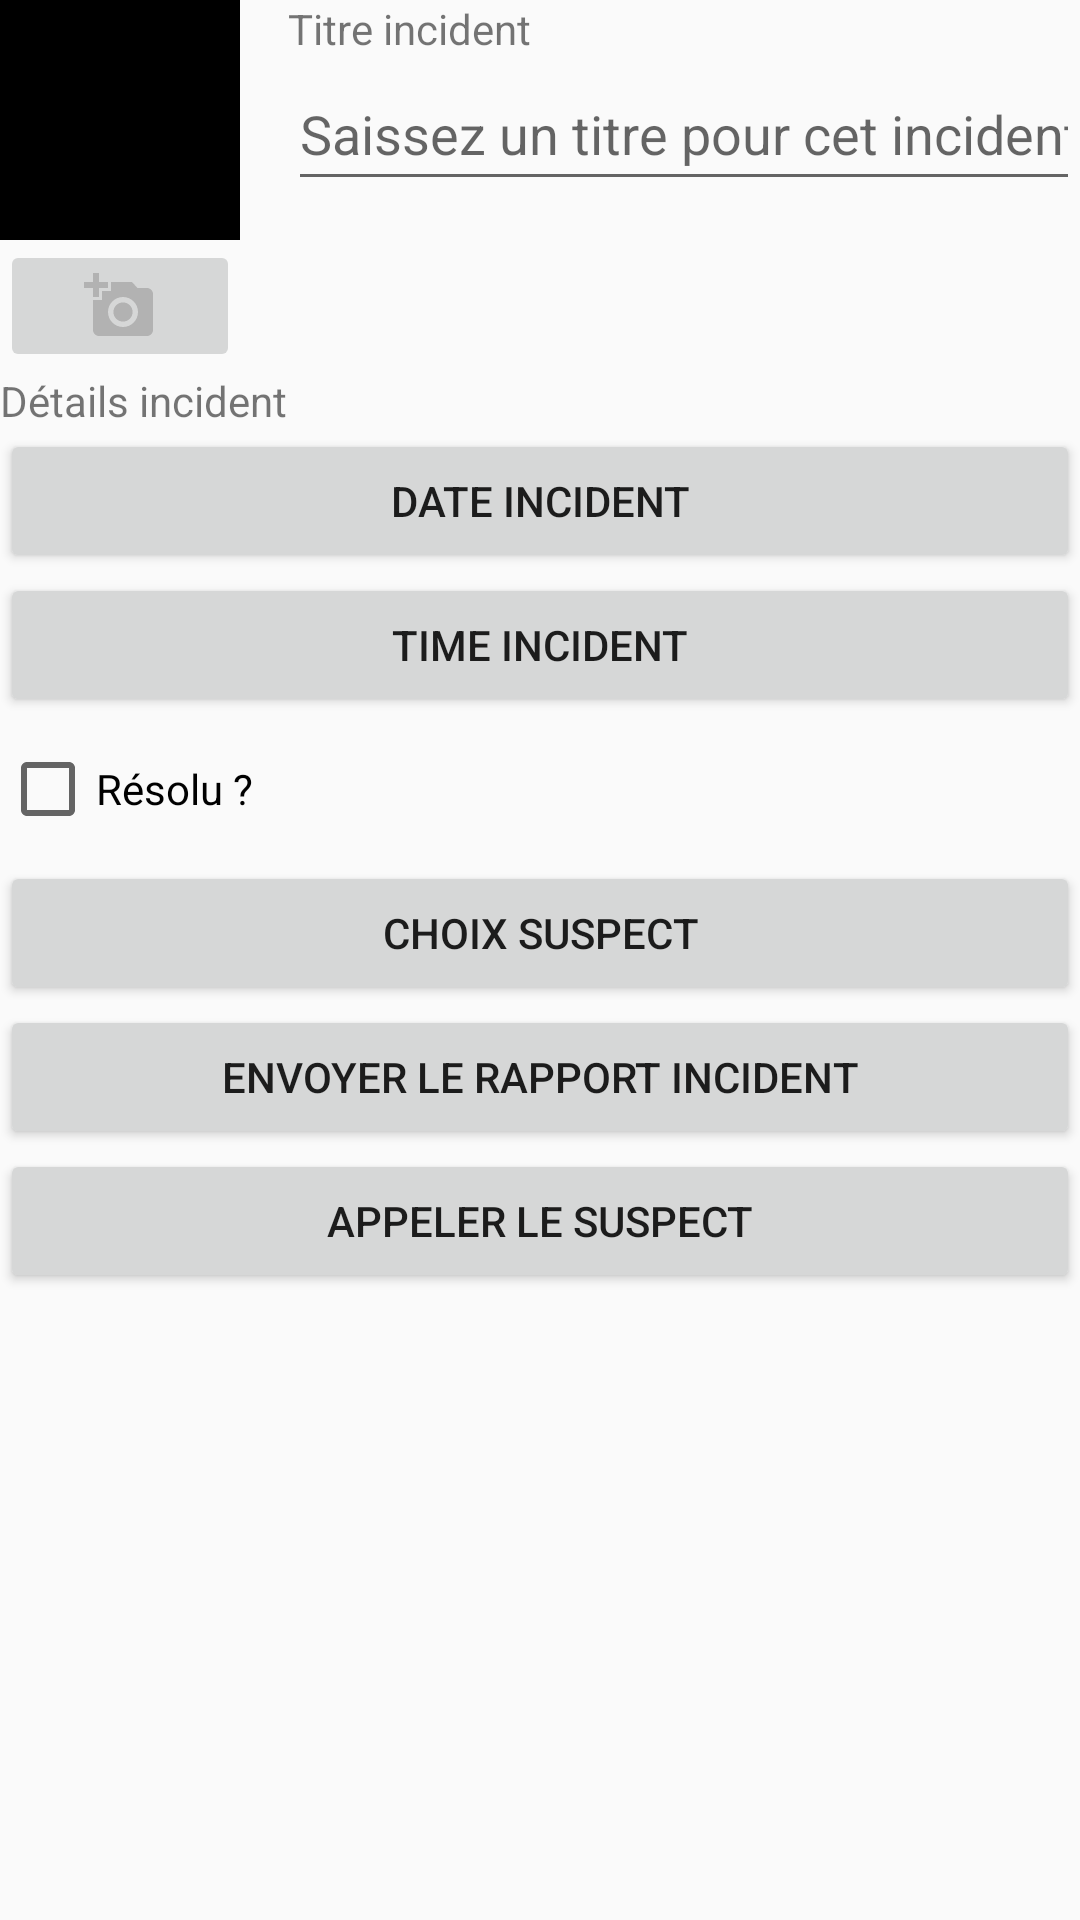

Icon click points for this 1080px×1920px phone screenshot, format (x=x, y=y):
photo: (x=120, y=306)
